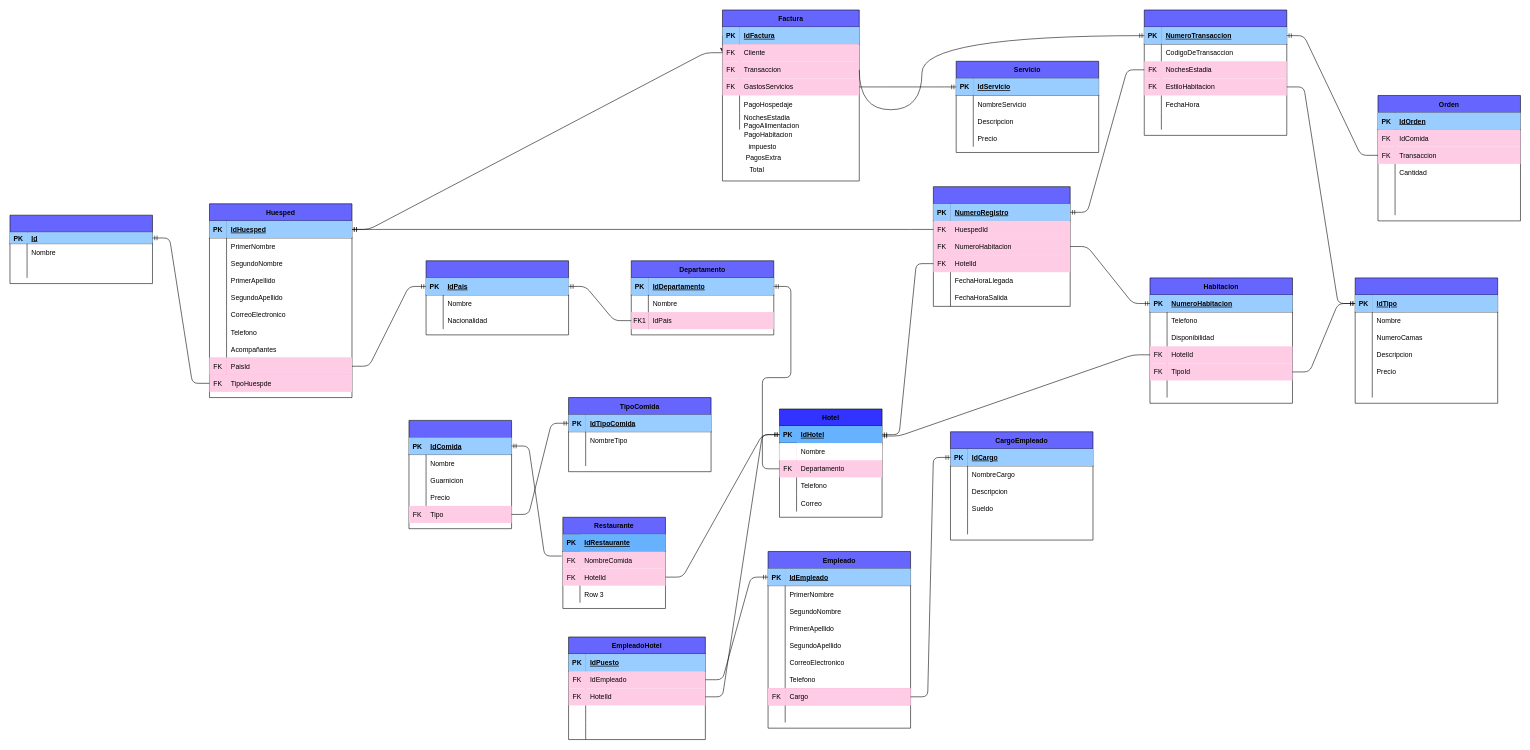
This 1530x750 diagram has some shape labels left out. Each missing label, with the box of its shape:
ComidaRestaurante: (408, 420, 512, 529)
HuespedHabitacion: (933, 186, 1070, 306)
Paises: (426, 260, 569, 335)
TipoHabitacion: (1355, 277, 1498, 403)
TipoHuesped: (9, 215, 152, 284)
Transigencia: (1144, 9, 1287, 135)
